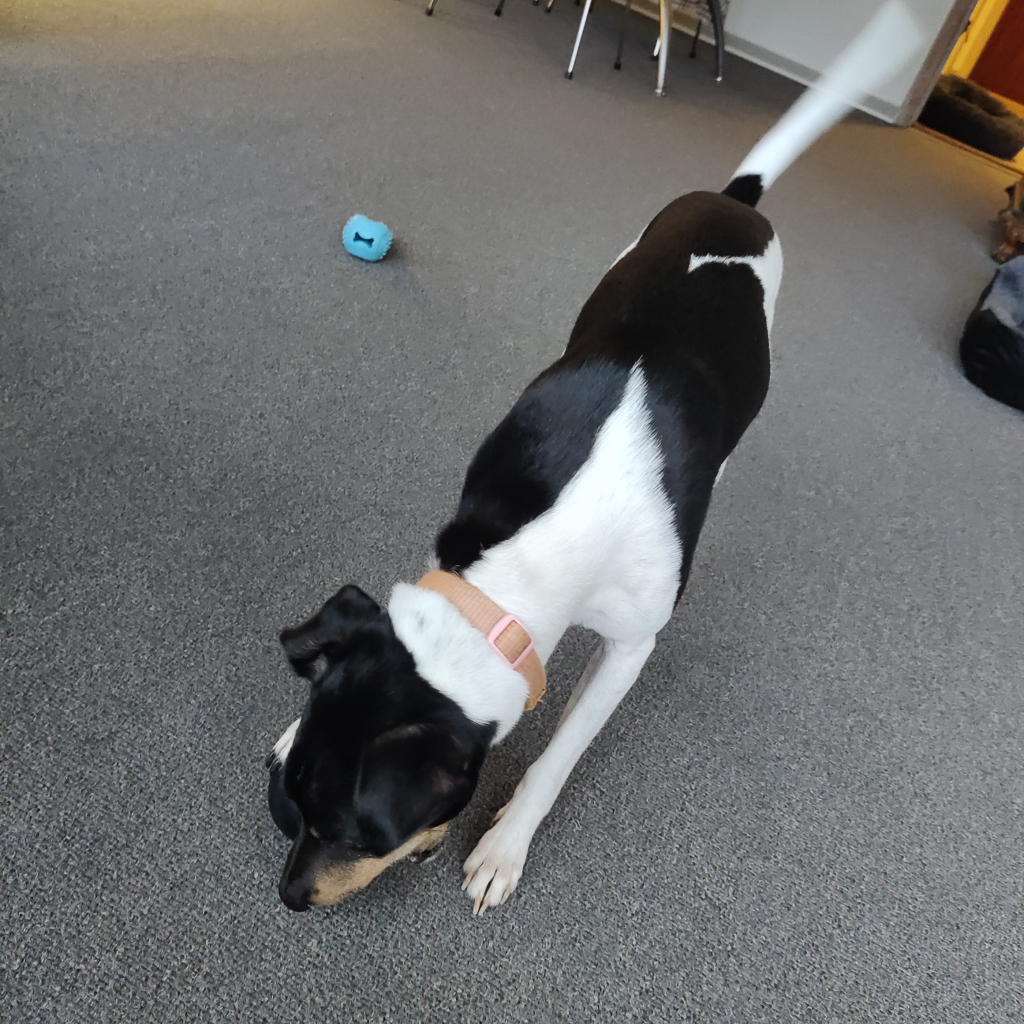Dog: (245, 0, 957, 954)
